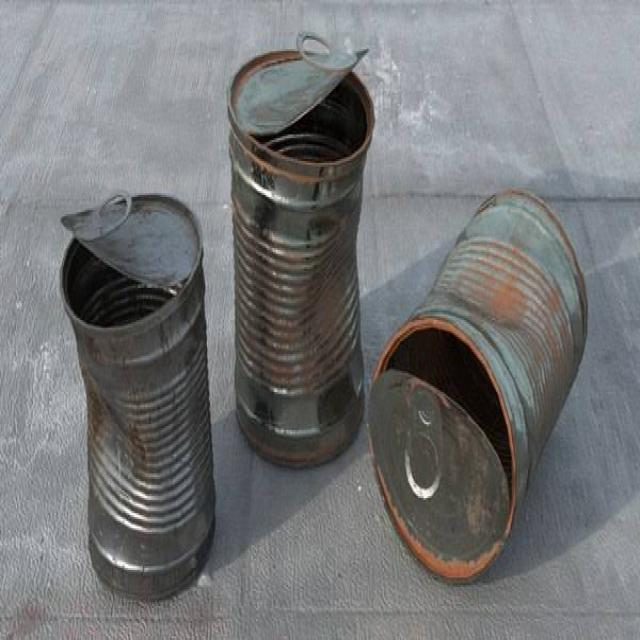metal: (371, 176, 594, 590), (53, 183, 222, 604), (220, 20, 374, 481)
